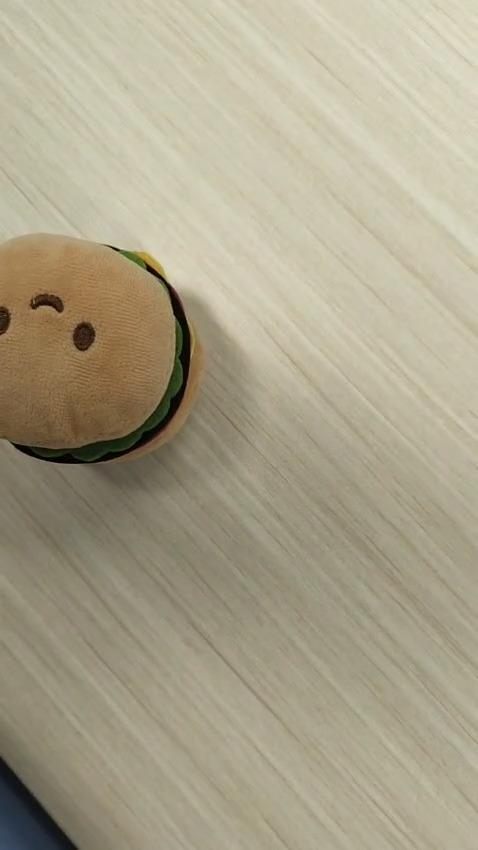hamburger: (0, 230, 203, 465)
